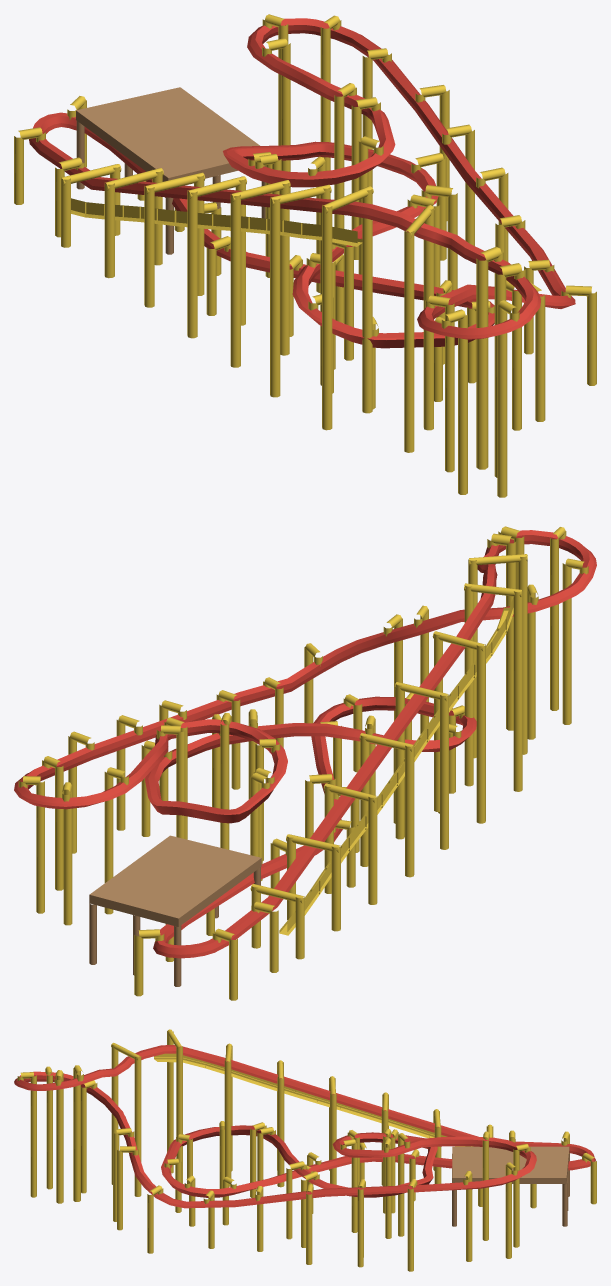
Rendered from nyc-phoenix-coaster.glb.
The picture shows the model from 3 angles, top to bottom: view 1: azimuth 30°, elevation 25°; view 2: azimuth 150°, elevation 25°; view 3: azimuth 270°, elevation 25°; orthographic projection. The views are drawn at different scales.
Visible parts, largest first — view 1: The Phoenix; view 2: The Phoenix; view 3: The Phoenix.
Part boxes in pixels (bbox=[...]): The Phoenix: bbox=[14, 14, 596, 497]; The Phoenix: bbox=[14, 526, 596, 1000]; The Phoenix: bbox=[14, 1029, 596, 1271].
Bounding box in the file's own units: 31.79 × 21.43 × 78.05.
